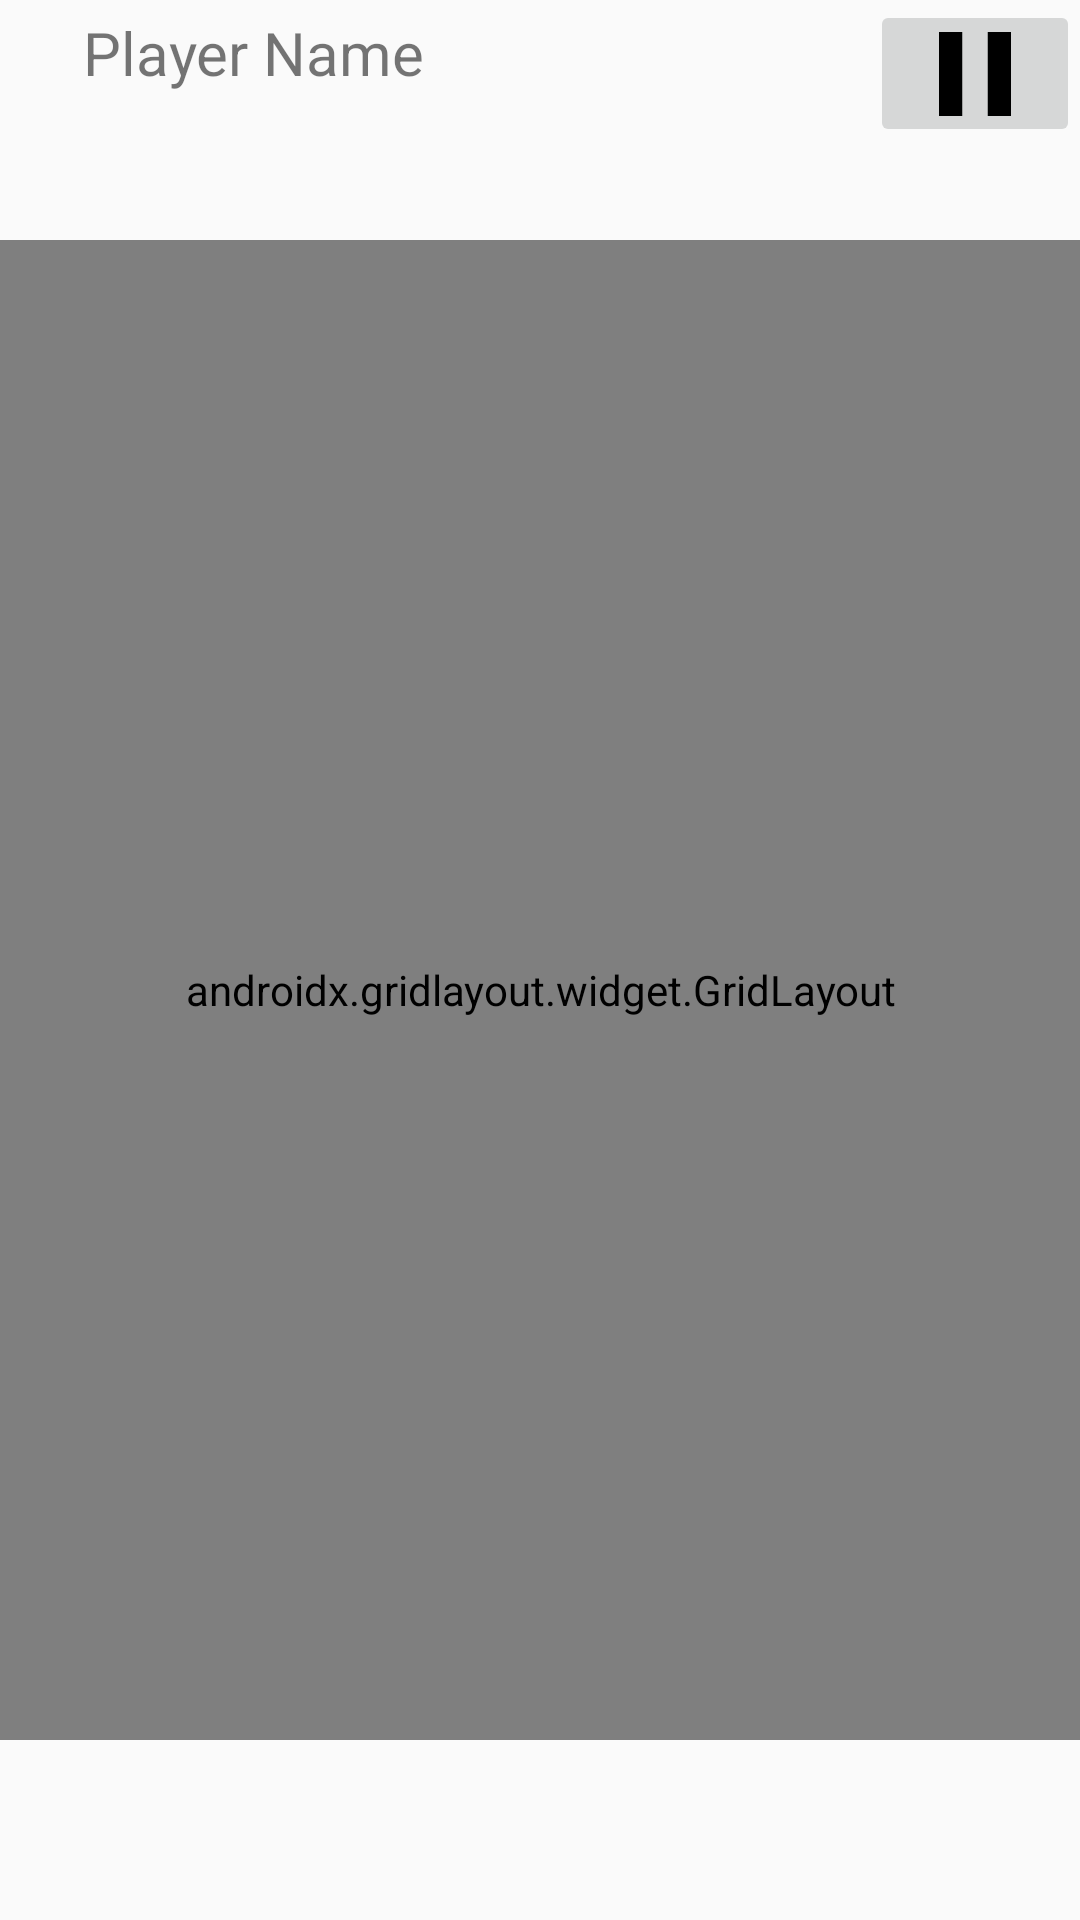

Named icons in this screenshot (1080px×1920px) and their centers, (x=x, y=y):
pause: (x=975, y=73)
